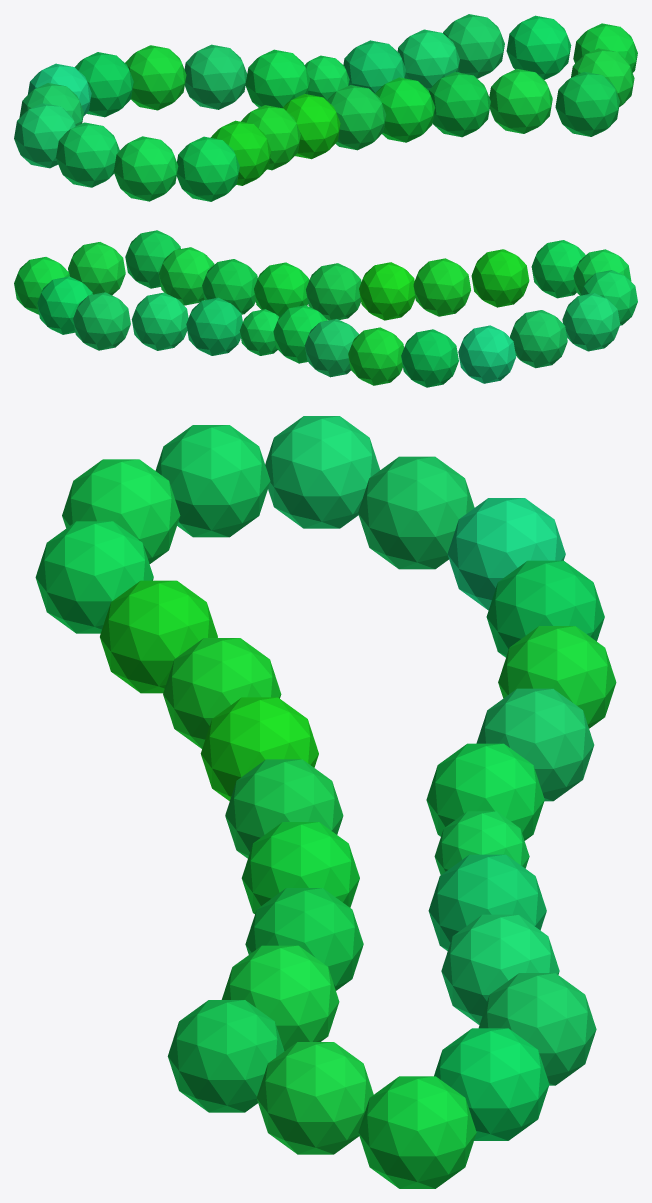
File: Bead$8.fbx
3 renders of one model, top to bottom at view 1: azimuth 30°, elevation 25°; view 2: azimuth 150°, elevation 25°; view 3: azimuth 270°, elevation 25°, orthographic. The views are drawn at different scales.
Parts seen in each view (by area): view 1: Icosphere.024; view 2: Icosphere.024; view 3: Icosphere.024.
Part boxes in pixels (x1,y1,x2,y2): Icosphere.024: [14, 14, 637, 201]; Icosphere.024: [14, 230, 637, 387]; Icosphere.024: [35, 416, 616, 1188].
Size of the model in its own units: 1388 by 297 by 609.
